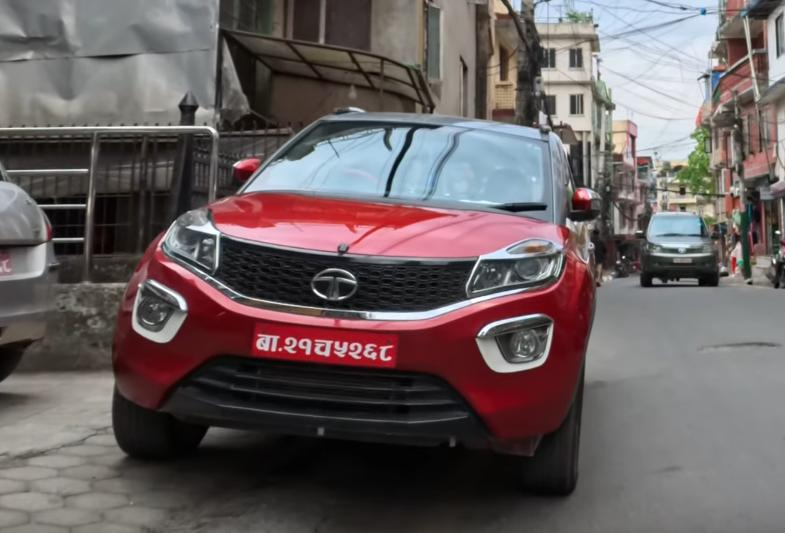SUV: (636, 205, 725, 298)
car: (101, 104, 596, 494)
